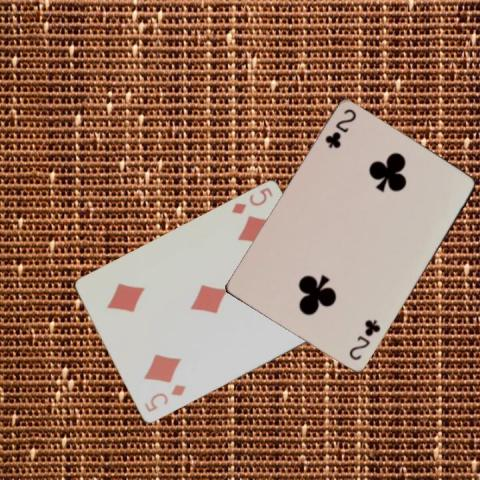2c: (346, 317, 382, 362), (322, 106, 358, 151)
5d: (141, 382, 187, 414), (228, 185, 274, 216)
